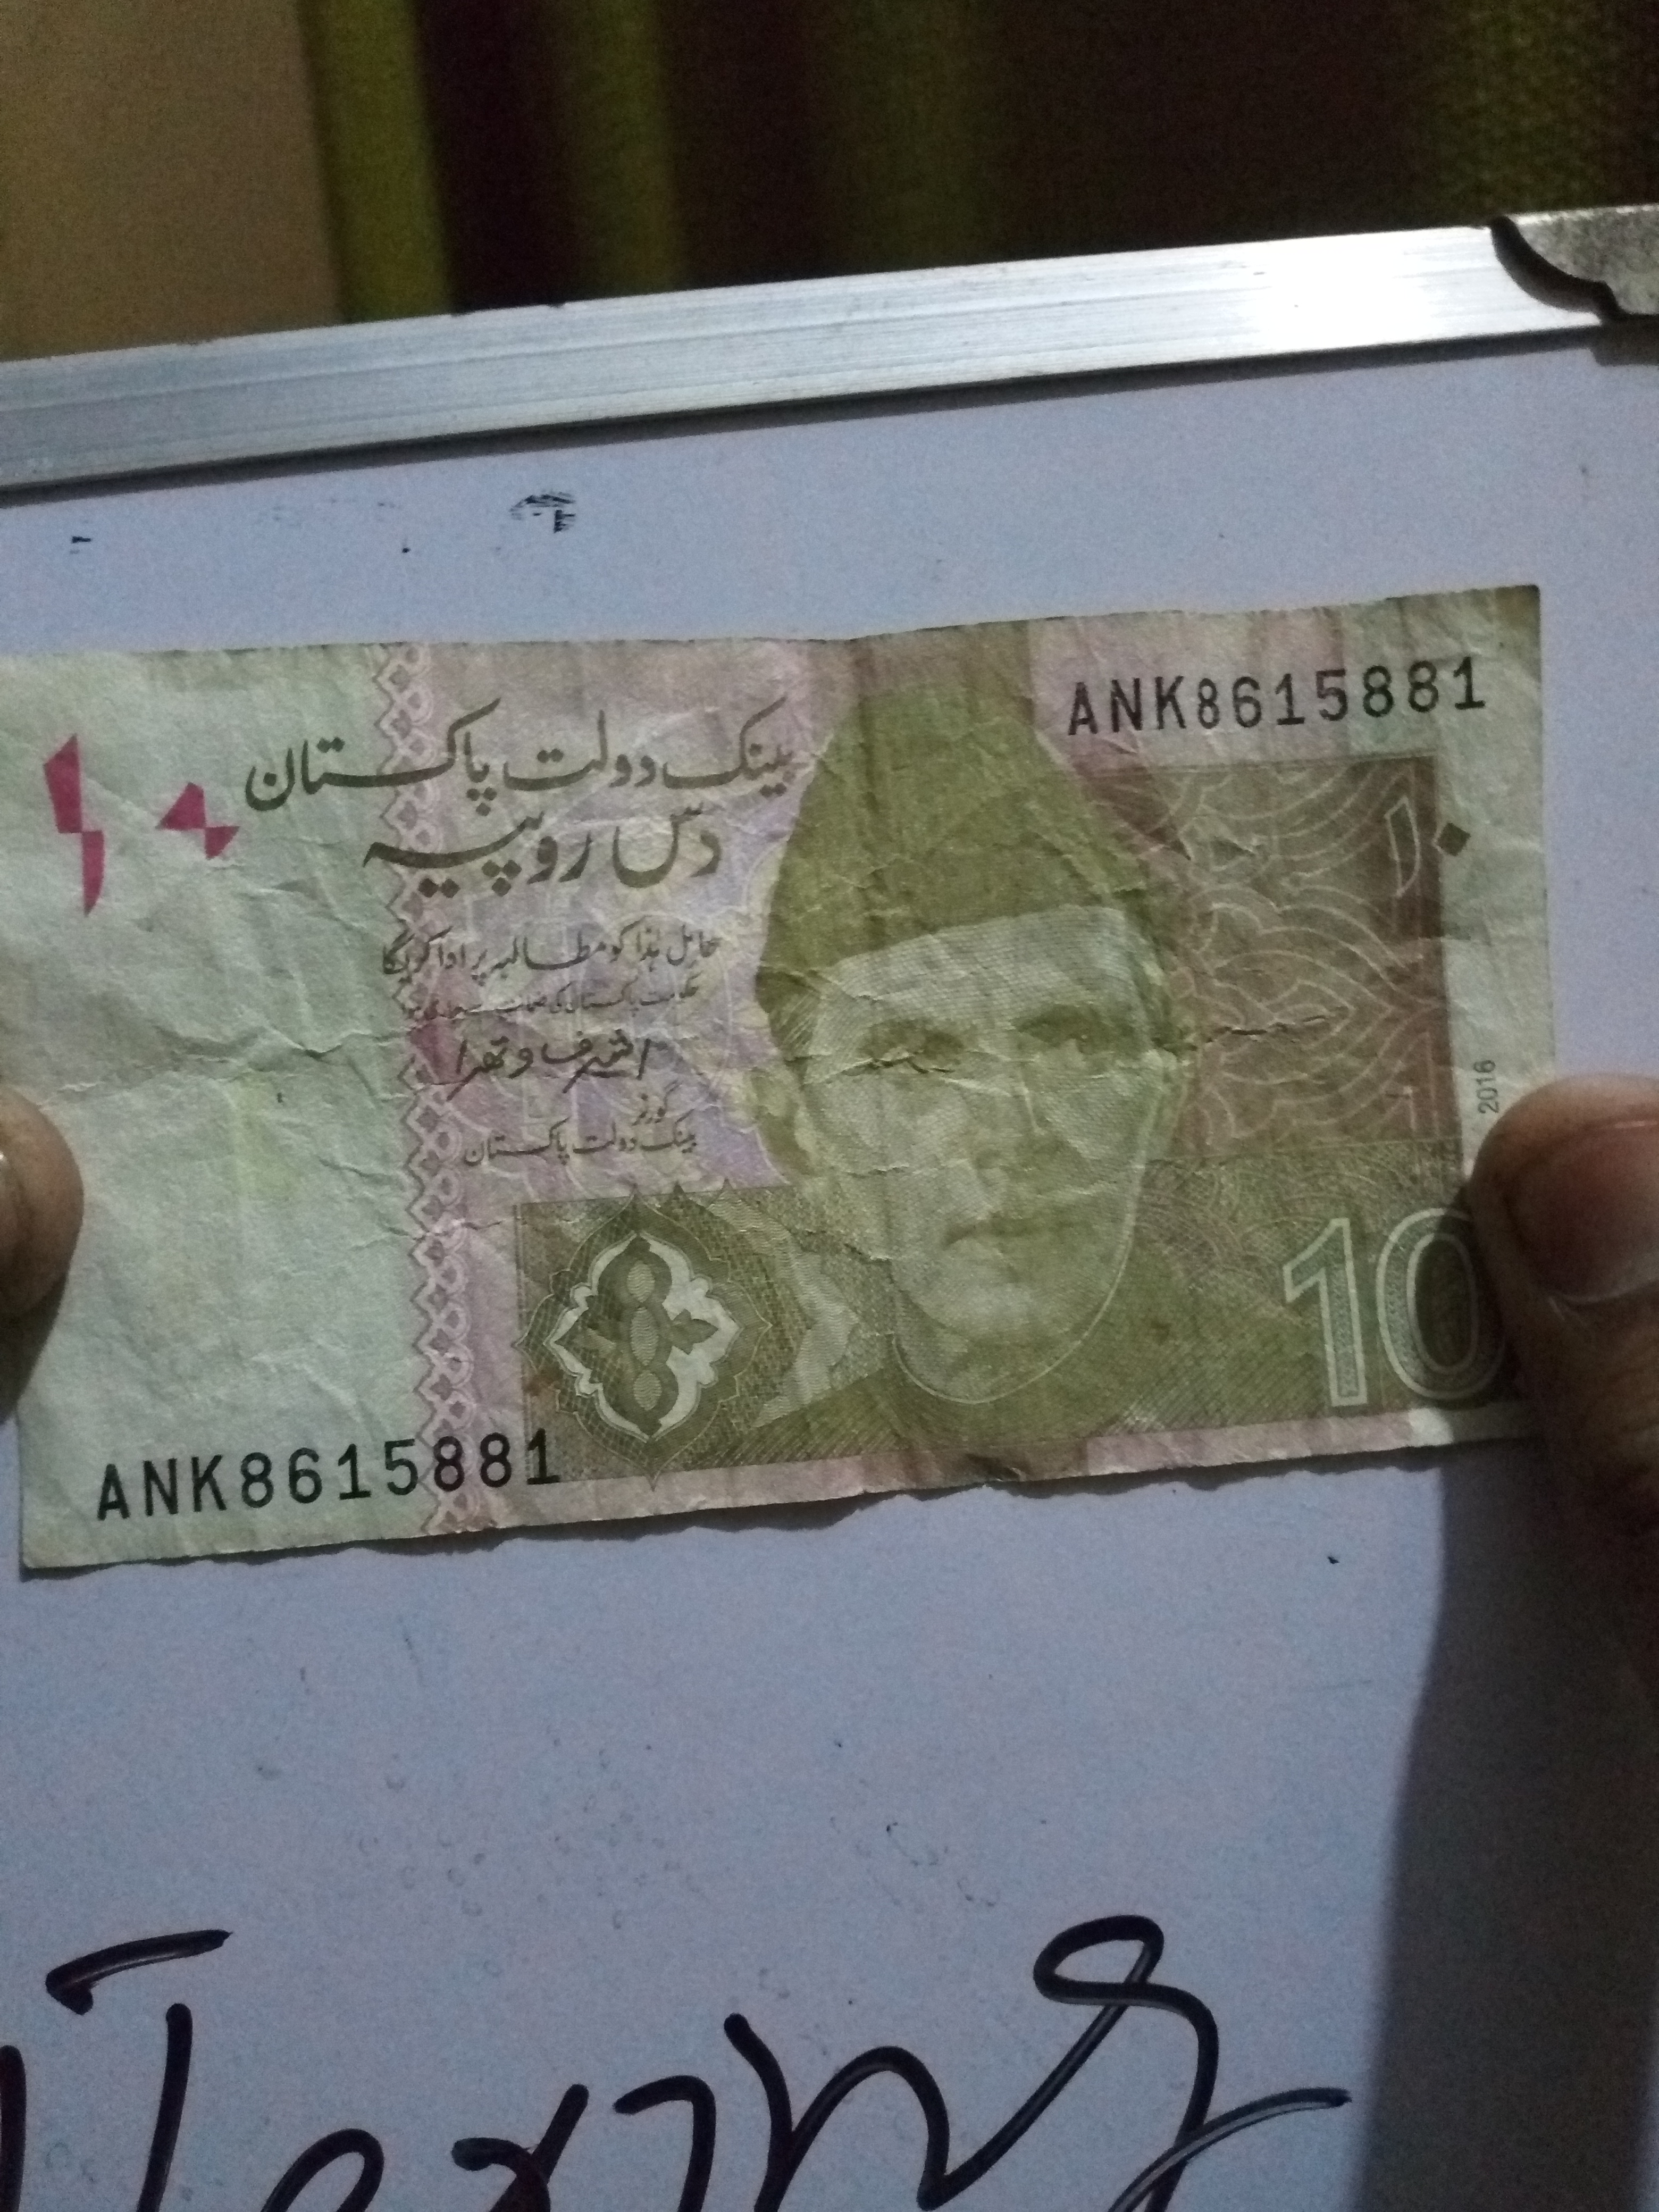10 rupee: (2, 575, 1659, 1576)
